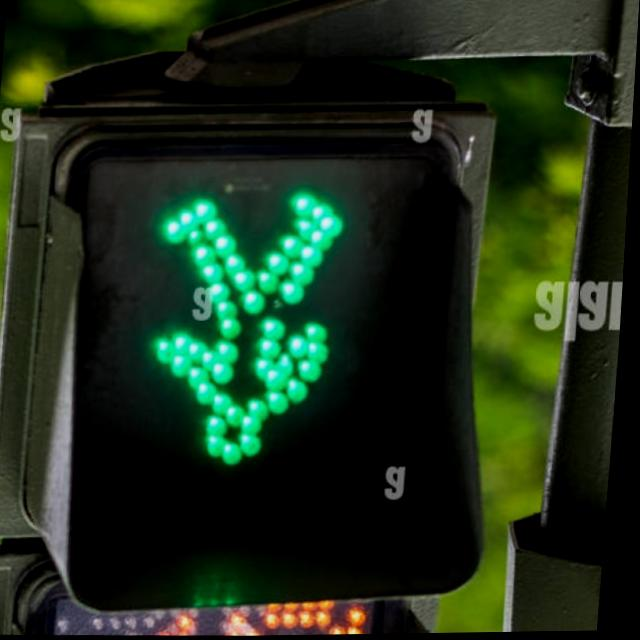green_light: (133, 181, 363, 495)
